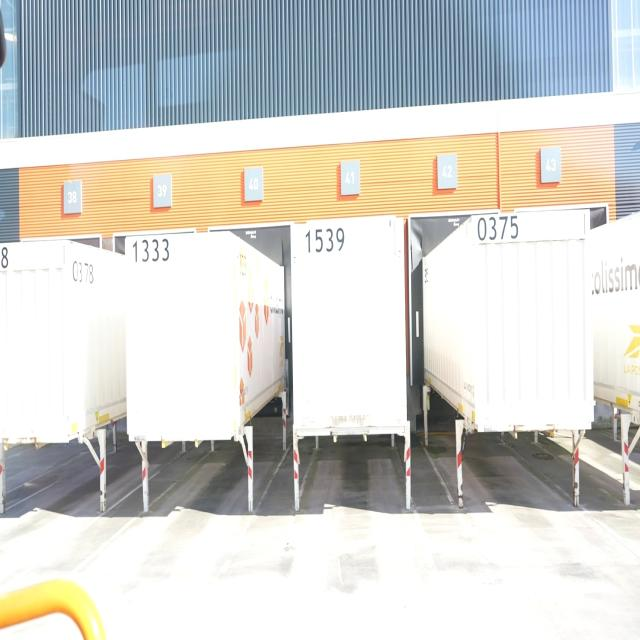Code: (302, 221, 352, 258), (475, 214, 522, 248), (129, 233, 174, 267), (69, 252, 95, 289)
